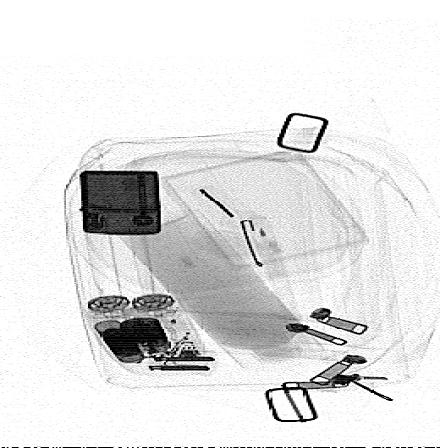Lighter: (78, 170, 162, 236)
